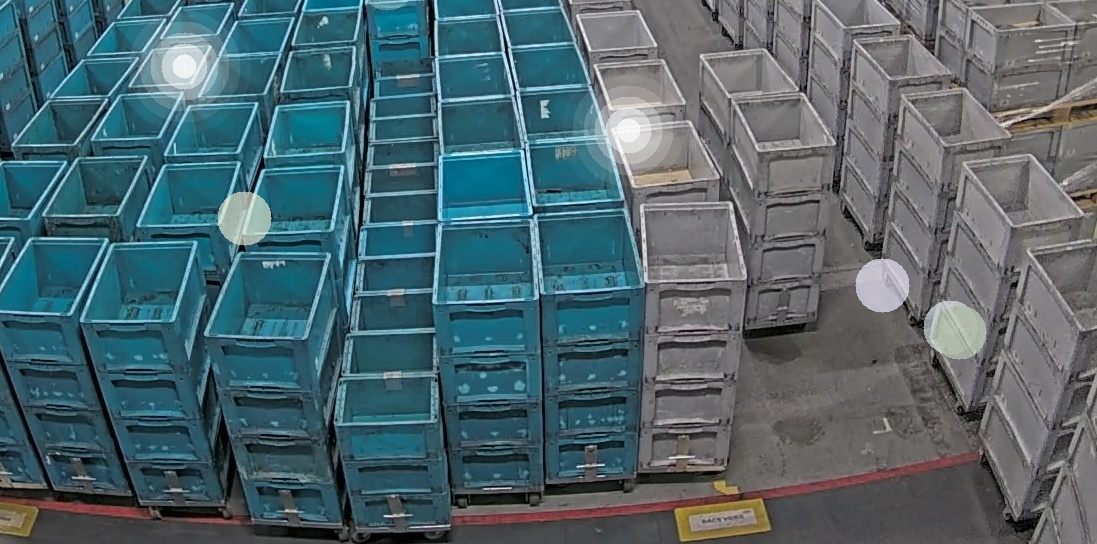4G: (639, 199, 749, 472), (728, 92, 836, 332)
B4: (78, 239, 233, 507), (206, 246, 346, 526), (0, 236, 131, 493), (532, 208, 643, 482), (432, 217, 543, 490)
B8: (334, 326, 453, 527)
